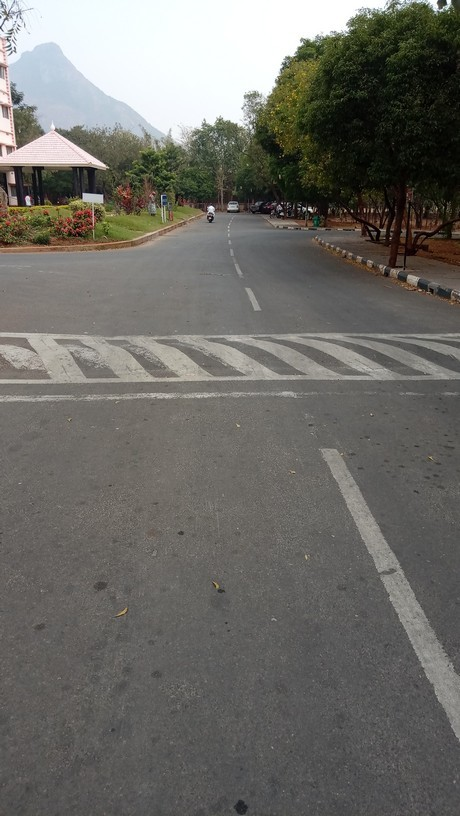bump: (1, 334, 460, 382)
